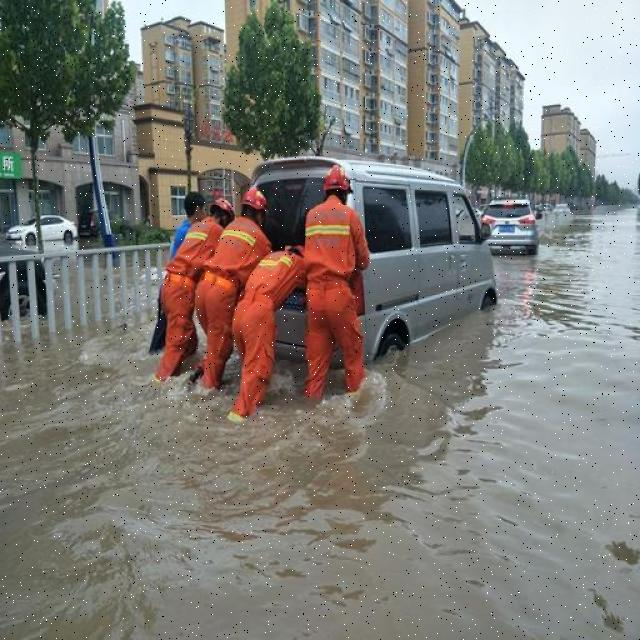rescuer: (288, 157, 390, 421), (243, 233, 330, 446), (156, 196, 208, 384), (221, 186, 260, 428)
